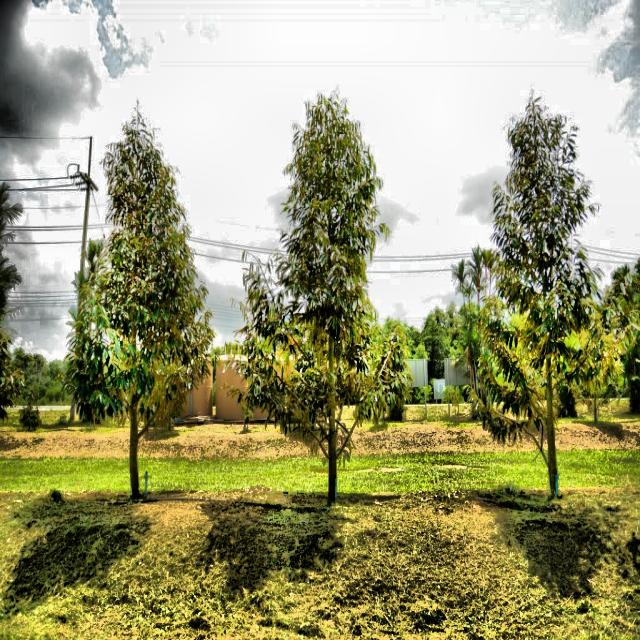arvore: (318, 272, 346, 518), (538, 306, 570, 503), (120, 327, 147, 514)
